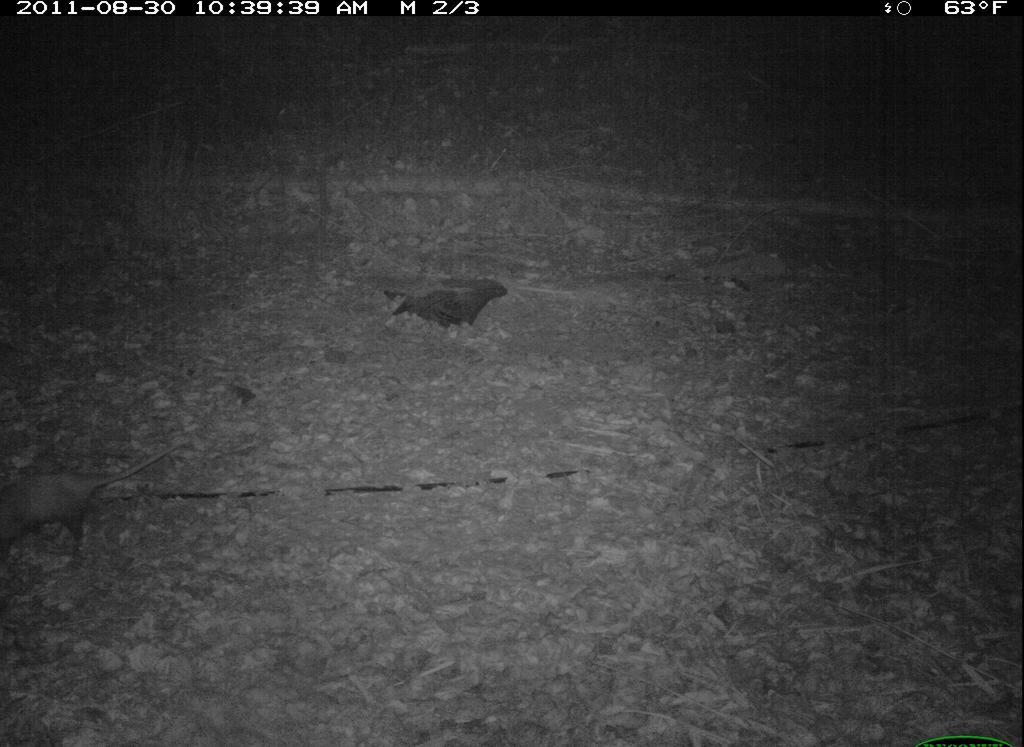opossum: (1, 433, 195, 568)
